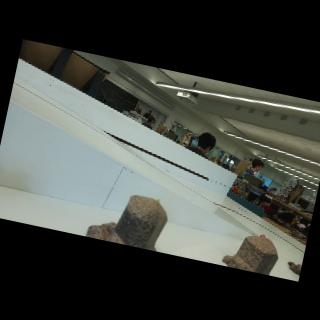teletubby: (259, 234, 265, 237), (156, 199, 159, 202)
